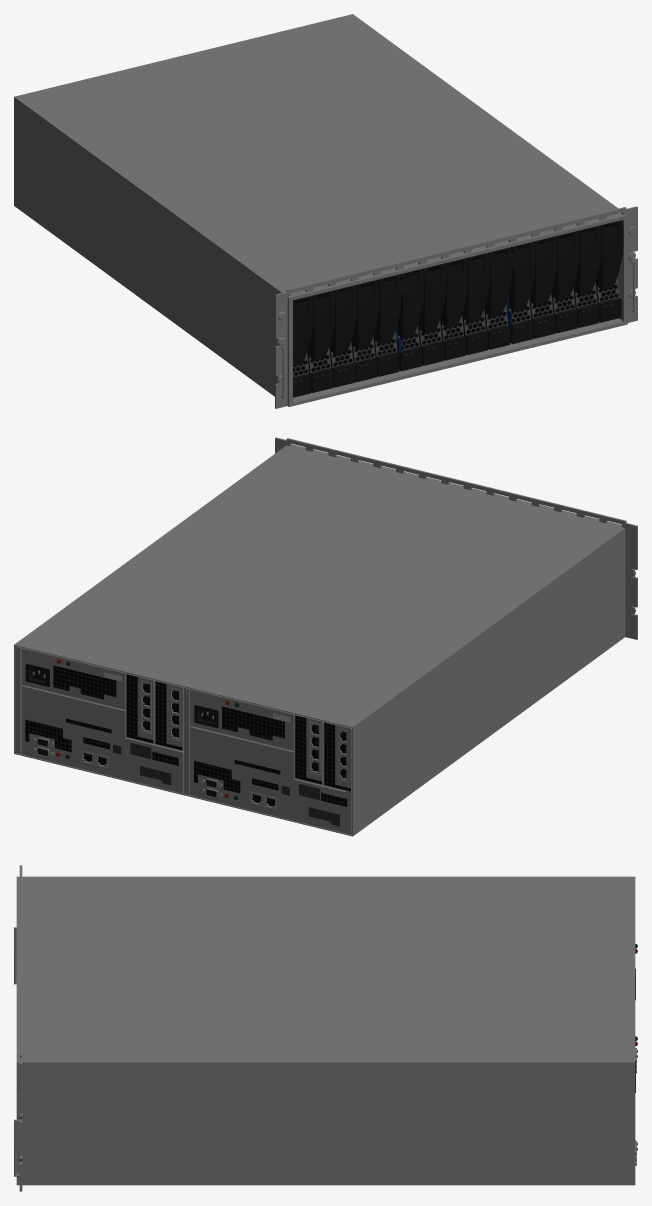
File: DELL EMC_VNX Disk Processor Enclosure.fbx
3 views of the same model, one above another, from view 1: azimuth 30°, elevation 25°; view 2: azimuth 150°, elevation 25°; view 3: azimuth 270°, elevation 25° (orthographic). The views are drawn at different scales.
Parts seen in each view (by area): view 1: DELL EMC_VNX Disk Processor Enclosure; view 2: DELL EMC_VNX Disk Processor Enclosure; view 3: DELL EMC_VNX Disk Processor Enclosure.
Boxes of the visible parts, x1,y1,x2,y2 form: DELL EMC_VNX Disk Processor Enclosure: [14, 14, 637, 408]; DELL EMC_VNX Disk Processor Enclosure: [14, 437, 637, 836]; DELL EMC_VNX Disk Processor Enclosure: [14, 865, 637, 1191].
Bounding box in the file's own units: 464 × 142 × 615.
Materials: 11 (2 with a texture image).
